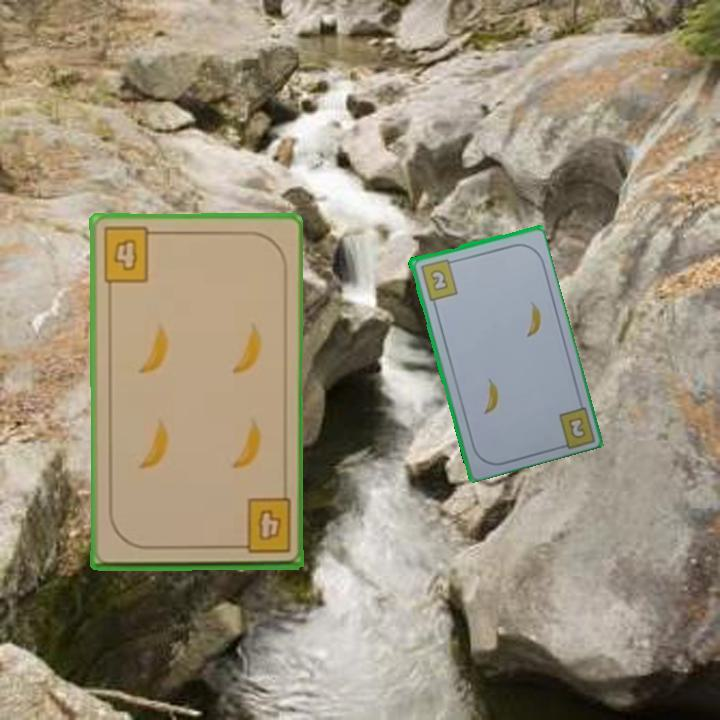2b: (417, 255, 460, 303), (564, 413, 589, 442)
4b: (230, 496, 295, 557), (100, 224, 162, 285)
